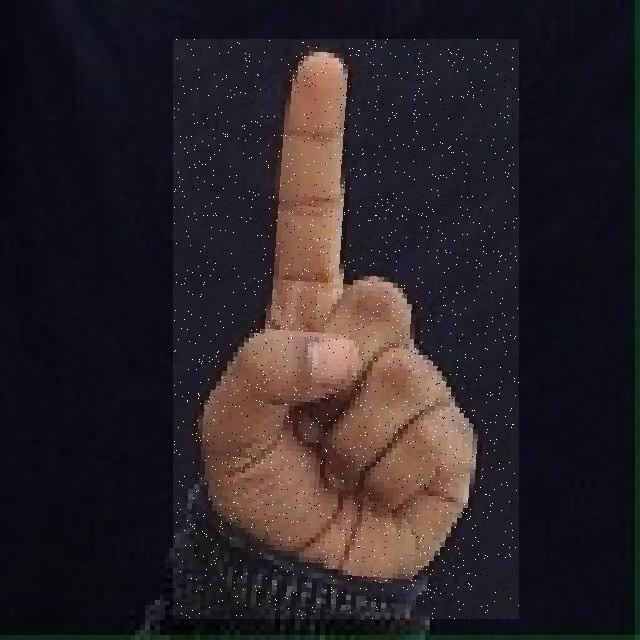IloveYou: (173, 39, 519, 619)
